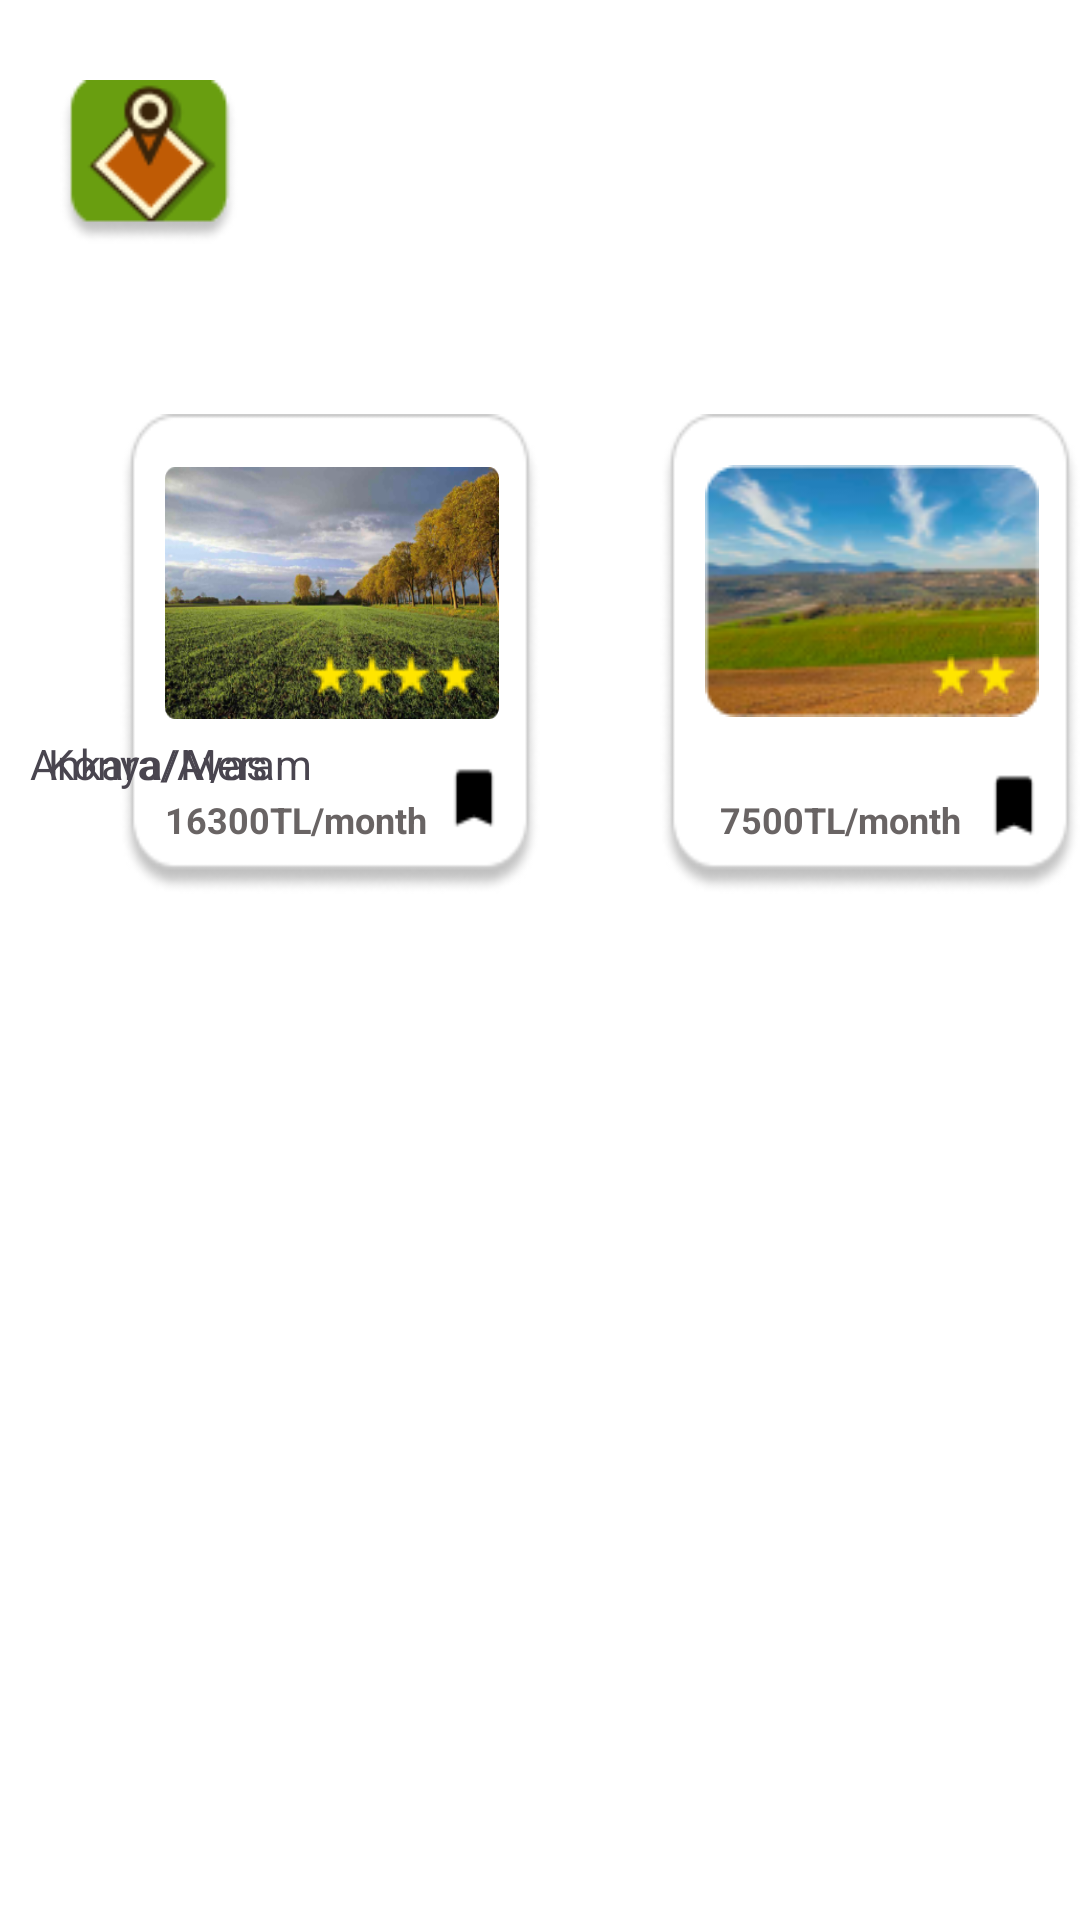

Point at icon controls on the screen. Image size 1080px x 1920px, points as [x,y].
bookmarkfilled: [474,798], [1014,805]
star: [330,675], [372,675], [411,675], [456,675], [951,675], [996,675]
